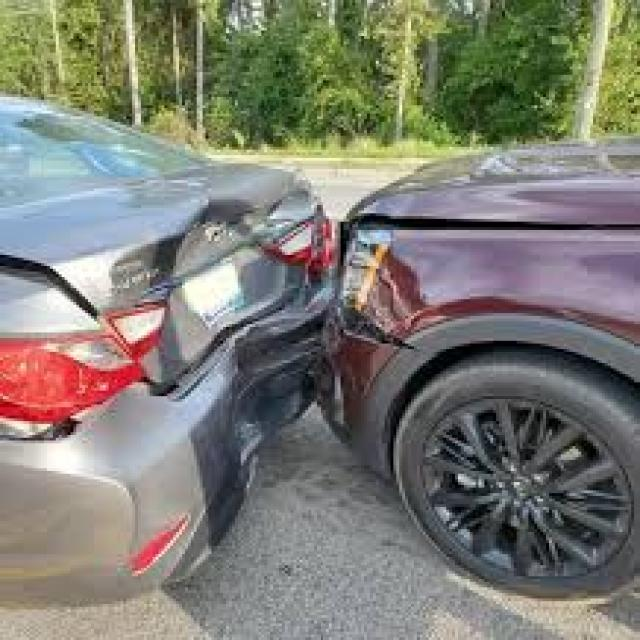damaged-trunk: (0, 159, 329, 379)
